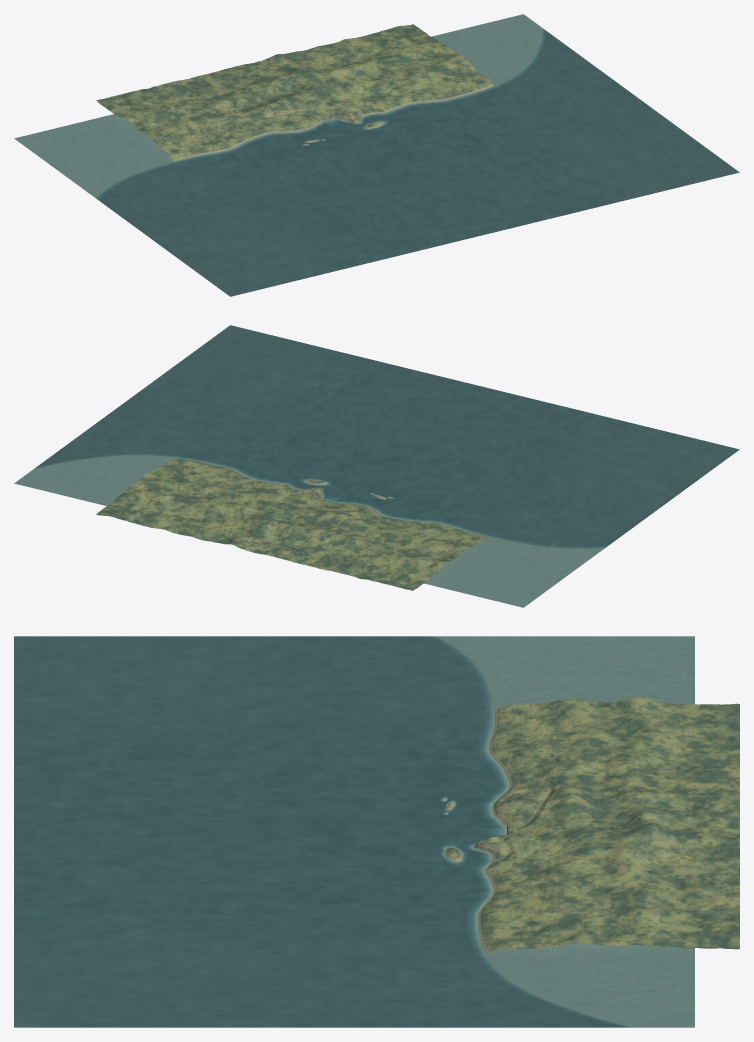
The model's file is moonwash-coast.glb.
3 renders of one model, top to bottom at view 1: azimuth 30°, elevation 25°; view 2: azimuth 150°, elevation 25°; view 3: azimuth 270°, elevation 25°, orthographic. The views are drawn at different scales.
Parts seen in each view (by area): view 1: MoonwashSea, MoonwashVista, MoonwashGround; view 2: MoonwashSea, MoonwashVista, MoonwashGround; view 3: MoonwashSea, MoonwashVista, MoonwashGround.
Boxes of the visible parts, bbox=[...] form: MoonwashSea: bbox=[14, 14, 739, 296]; MoonwashVista: bbox=[96, 24, 493, 161]; MoonwashGround: bbox=[261, 90, 385, 145]; MoonwashSea: bbox=[14, 325, 739, 607]; MoonwashVista: bbox=[96, 458, 489, 590]; MoonwashGround: bbox=[262, 479, 392, 519]; MoonwashSea: bbox=[14, 636, 694, 1027]; MoonwashVista: bbox=[478, 697, 739, 953]; MoonwashGround: bbox=[442, 783, 558, 870].
Size of the model in its own units: 4240 by 135 by 3324.
3 materials, 3 textured.
